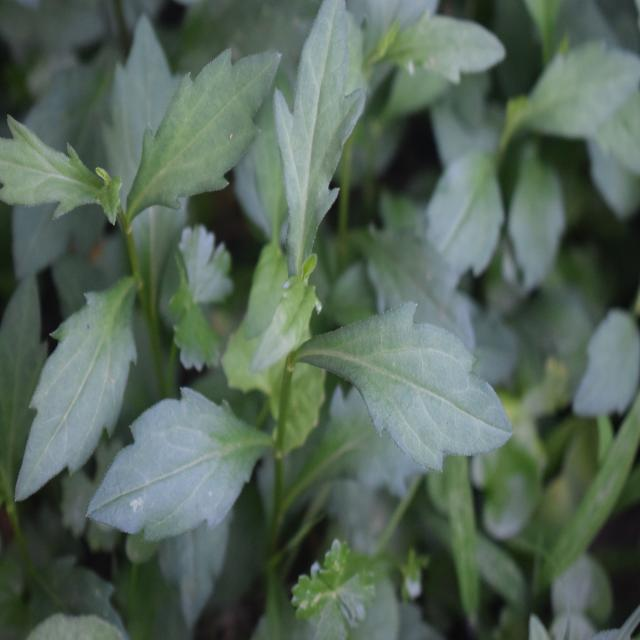Indian aster: (144, 36, 496, 480), (0, 92, 145, 450)
